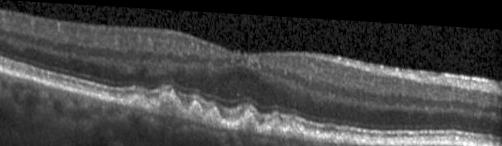retinal_drusen: (157, 92, 180, 115), (264, 113, 284, 132), (235, 111, 257, 128), (206, 106, 225, 125), (286, 119, 305, 135), (128, 97, 148, 111), (189, 100, 205, 117), (343, 133, 358, 140), (180, 107, 189, 116), (328, 130, 336, 139)
